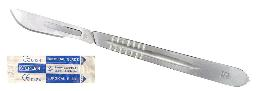scalpel: (10, 8, 250, 88)
